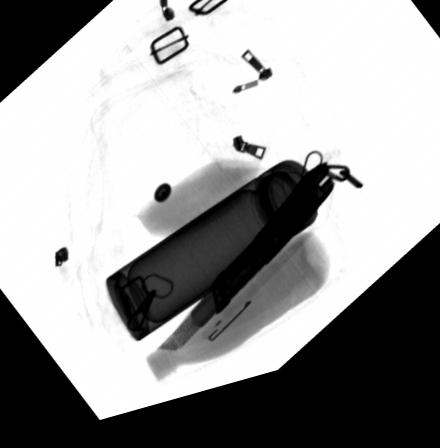Knife: (154, 179, 336, 362)
